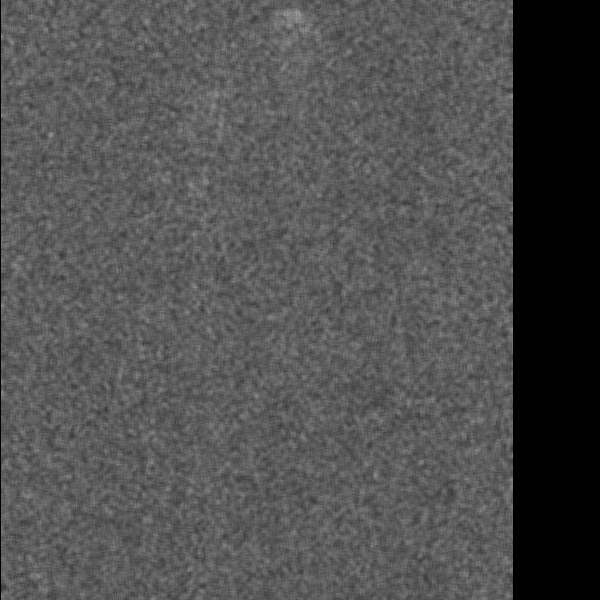spark: (33, 43, 85, 142), (386, 212, 435, 261)
